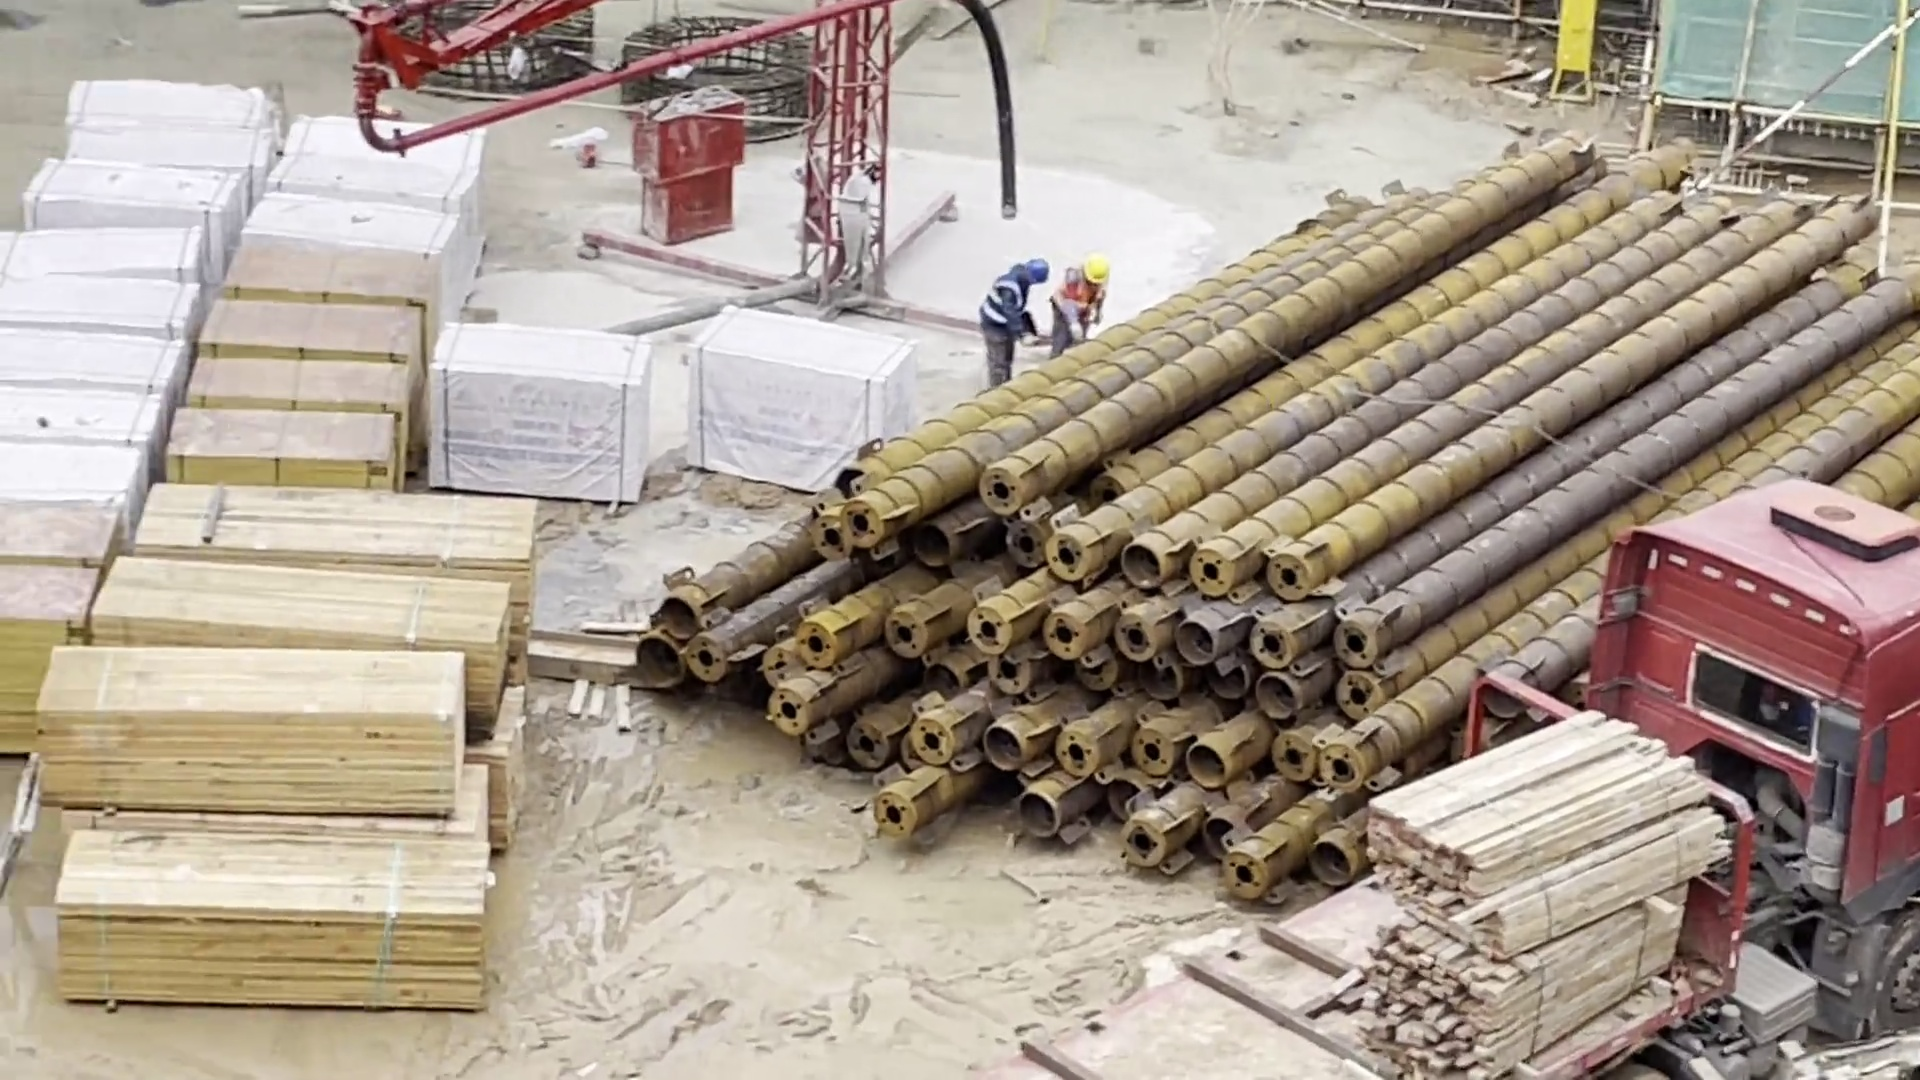ebox: (1541, 1, 1604, 107)
helmet: (1081, 252, 1114, 287), (1023, 258, 1053, 293)
person: (972, 248, 1047, 385), (1054, 248, 1101, 353)
vest: (1051, 270, 1106, 338), (977, 268, 1025, 332)
wood: (16, 828, 536, 1018), (26, 639, 490, 815), (1376, 721, 1703, 943), (112, 459, 552, 616), (83, 559, 525, 706), (1376, 899, 1702, 1080), (151, 406, 404, 491), (186, 359, 415, 423), (231, 245, 448, 313), (224, 293, 437, 356)
